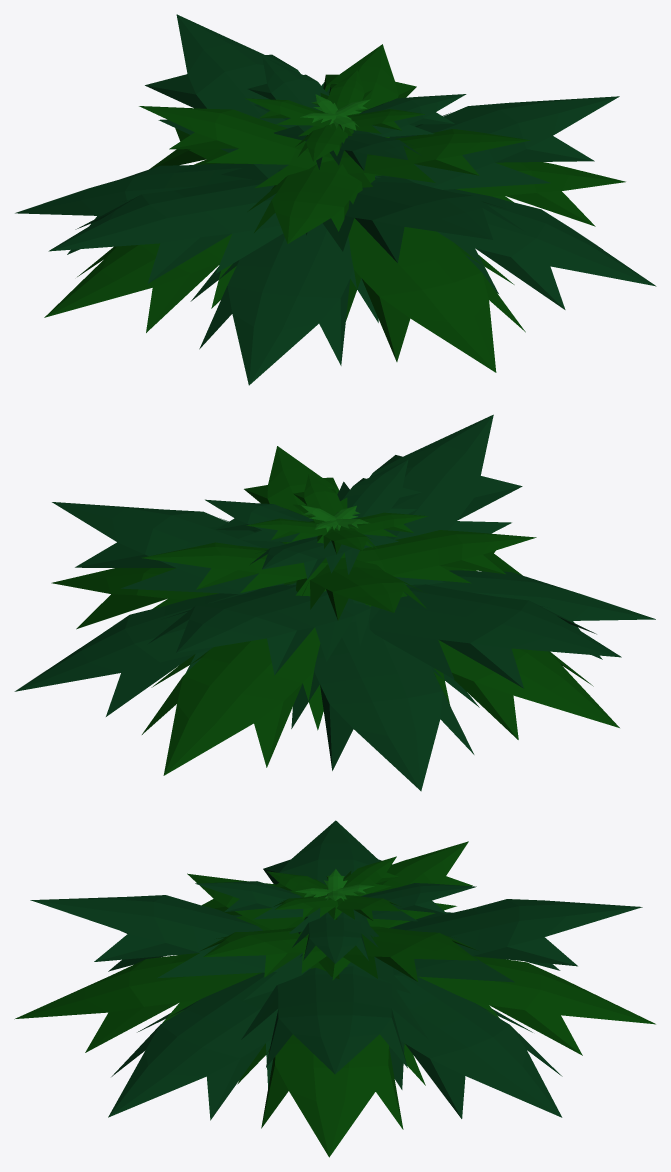
Rendered from Fern-Bush-2.fbx.
The picture shows the model from 3 angles, top to bottom: view 1: azimuth 30°, elevation 25°; view 2: azimuth 150°, elevation 25°; view 3: azimuth 270°, elevation 25°; orthographic projection. The views are drawn at different scales.
Parts seen in each view (by area): view 1: Icosphere.002; view 2: Icosphere.002; view 3: Icosphere.002.
Boxes of the visible parts, x1,y1,x2,y2 form: Icosphere.002: (15, 14, 656, 385); Icosphere.002: (14, 414, 655, 791); Icosphere.002: (14, 820, 655, 1157).
Bounding box in the file's own units: 376 × 93.15 × 376.
